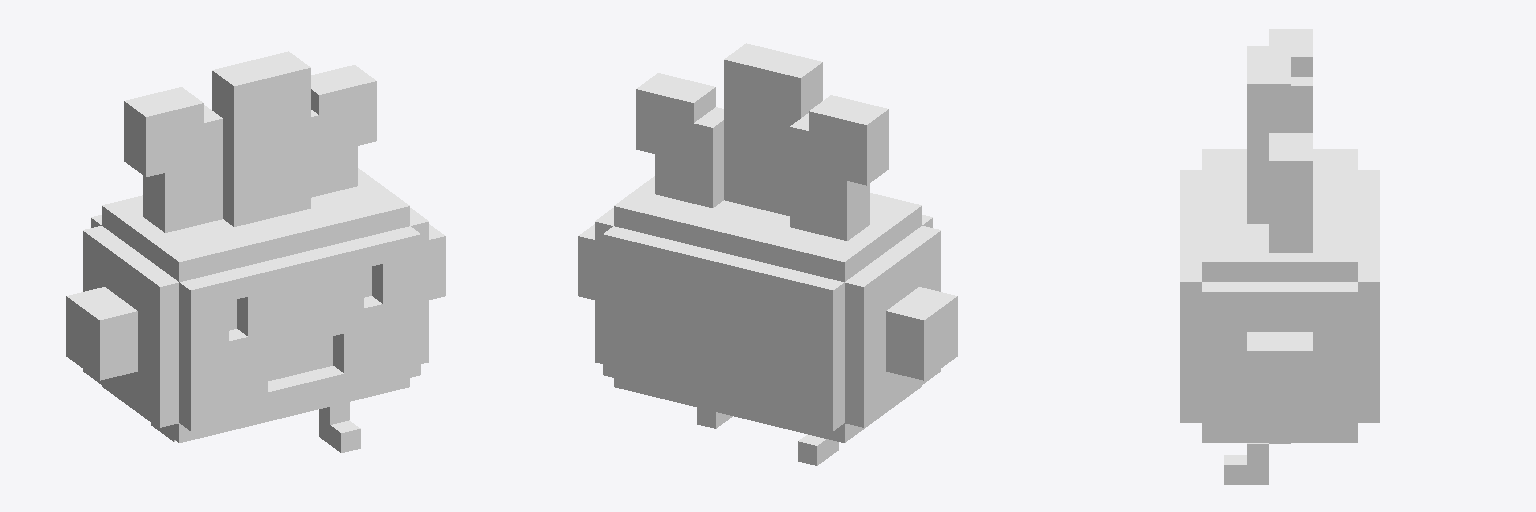
Rendered from Voxels-14.obj.
The picture shows the model from 3 angles: view 1: azimuth 30°, elevation 25°; view 2: azimuth 150°, elevation 25°; view 3: azimuth 270°, elevation 25°; orthographic projection.
Visible parts, largest first — view 1: Voxels-14; view 2: Voxels-14; view 3: Voxels-14.
Boxes of the visible parts, x1,y1,x2,y2 form: Voxels-14: [66, 51, 445, 452]; Voxels-14: [578, 43, 957, 465]; Voxels-14: [1180, 29, 1379, 484].
Size of the model in its own units: 18 by 19 by 9.